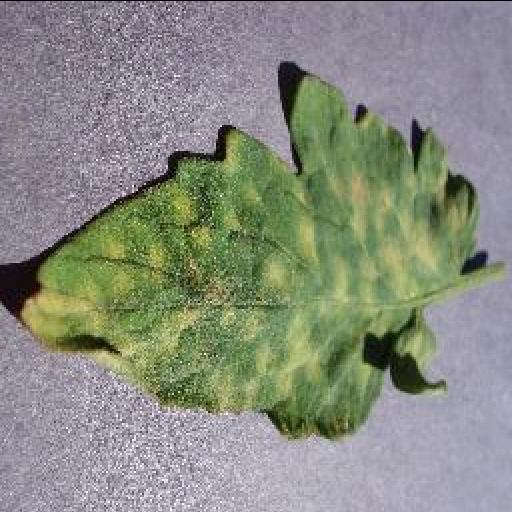disease_tomato: (14, 73, 482, 441)
